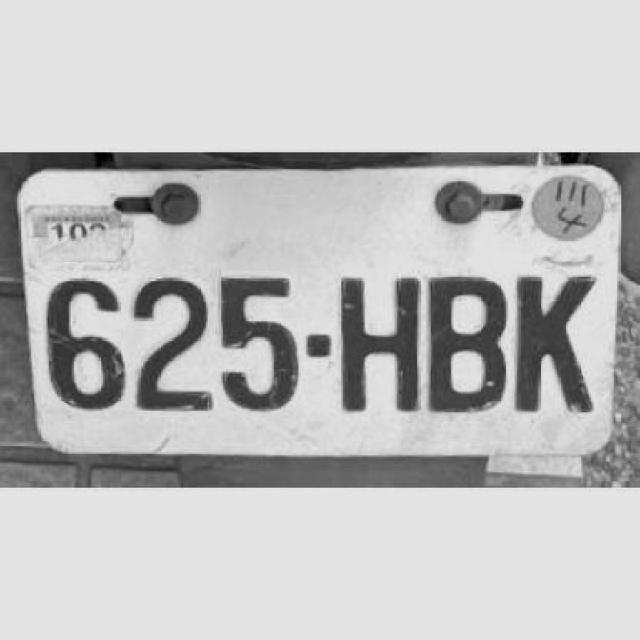-: (308, 334, 334, 358)
2: (132, 278, 212, 412)
5: (217, 277, 300, 414)
6: (44, 277, 124, 412)
B: (428, 277, 508, 415)
H: (337, 277, 421, 412)
K: (518, 272, 597, 414)
